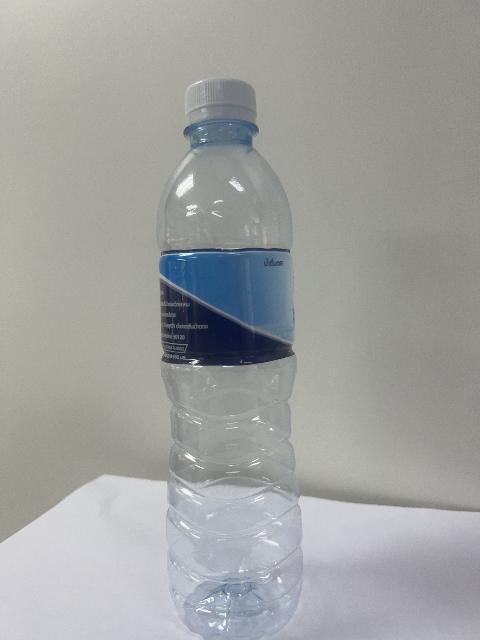bottle: (158, 79, 302, 639)
